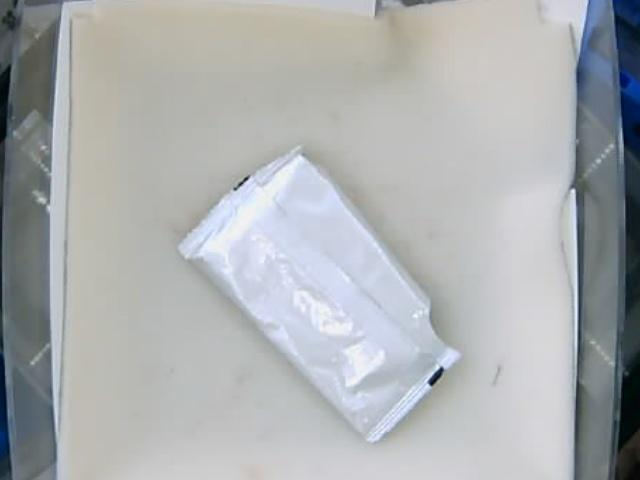Medicine: (184, 144, 462, 443)
